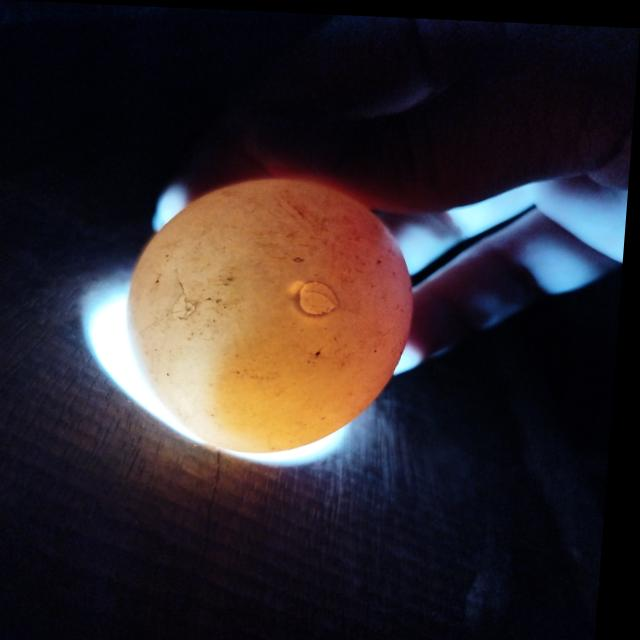Rachadura: (303, 278, 346, 312), (174, 271, 201, 319)
